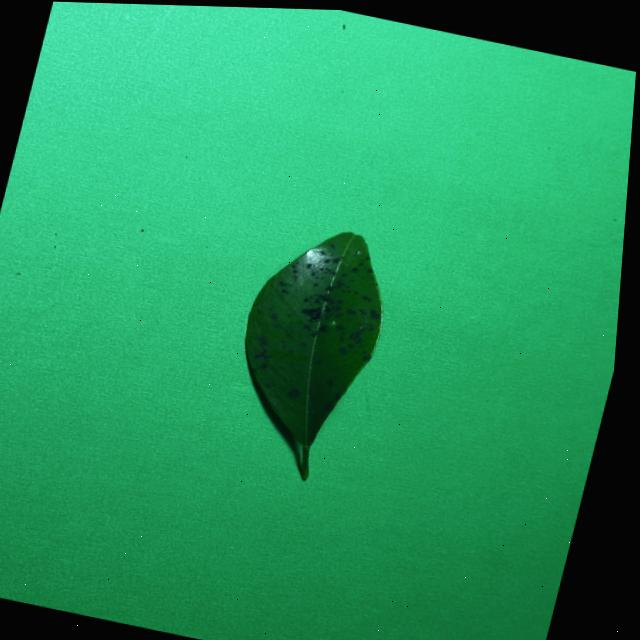sooty_mold: (245, 231, 381, 477)
